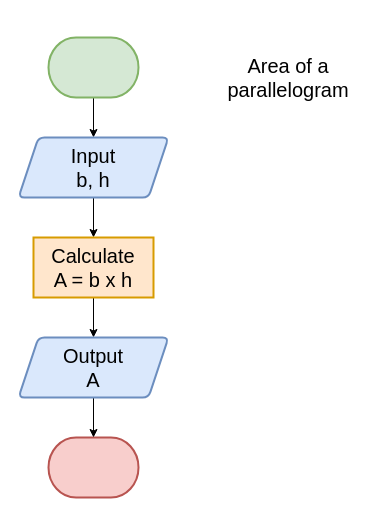
The diagram is 375 pixels wide and 515 high, and some of its shapes have lost their labels. Each missing label, with the centre of its shape:
End: (93,467)
Start: (93,67)
